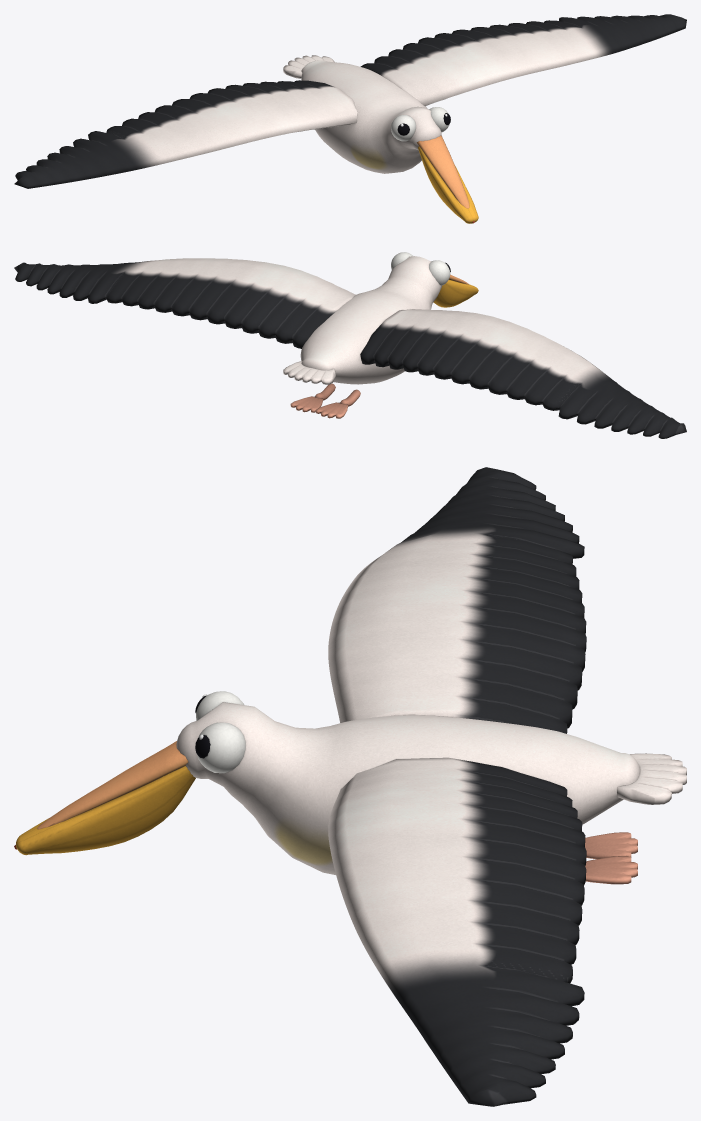
File: Ave_Pelicano.fbx
The picture shows the model from 3 angles, top to bottom: view 1: azimuth 30°, elevation 25°; view 2: azimuth 150°, elevation 25°; view 3: azimuth 270°, elevation 25°; orthographic projection. The views are drawn at different scales.
Parts seen in each view (by area): view 1: R_wing, L_wing, Cuerpo; view 2: R_wing, L_wing, Cuerpo; view 3: L_wing, R_wing, Cuerpo.
Boxes of the visible parts, left/top/right/bottom form: R_wing: left=14, top=80, right=357, bottom=188; L_wing: left=360, top=14, right=686, bottom=105; Cuerpo: left=283, top=55, right=478, bottom=223; R_wing: left=360, top=309, right=686, bottom=438; L_wing: left=14, top=258, right=355, bottom=348; Cuerpo: left=283, top=252, right=478, bottom=418; L_wing: left=328, top=757, right=586, bottom=1106; R_wing: left=328, top=467, right=586, bottom=733; Cuerpo: left=14, top=691, right=686, bottom=884.
Bounding box in the file's own units: 4.3 × 0.5159 × 1.92.
1 material, 1 textured.
